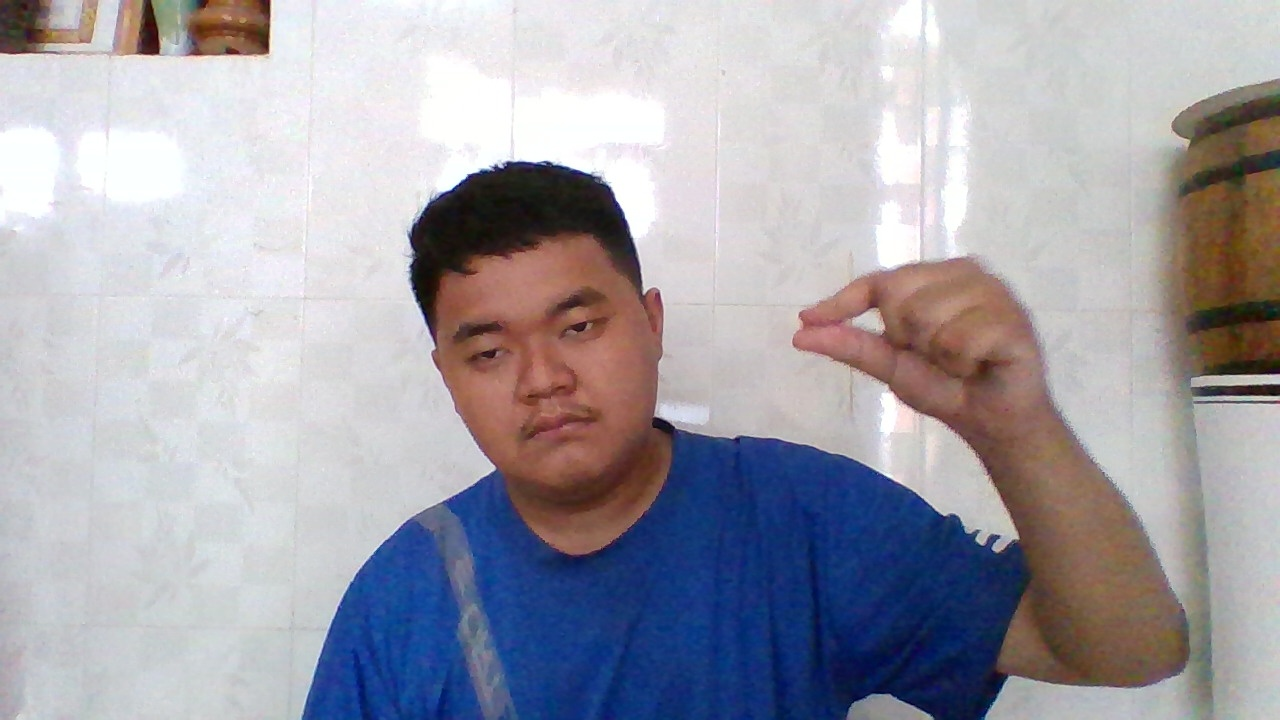S: (791, 255, 1032, 453)
